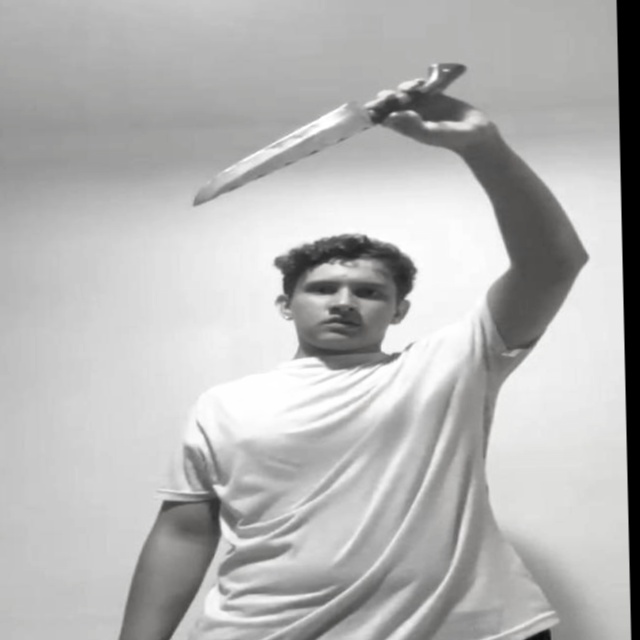Sharp-Object: (188, 99, 365, 204)
